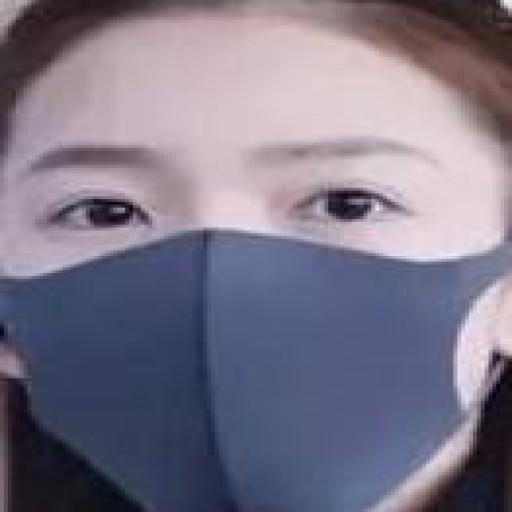mask: (4, 37, 512, 512)
